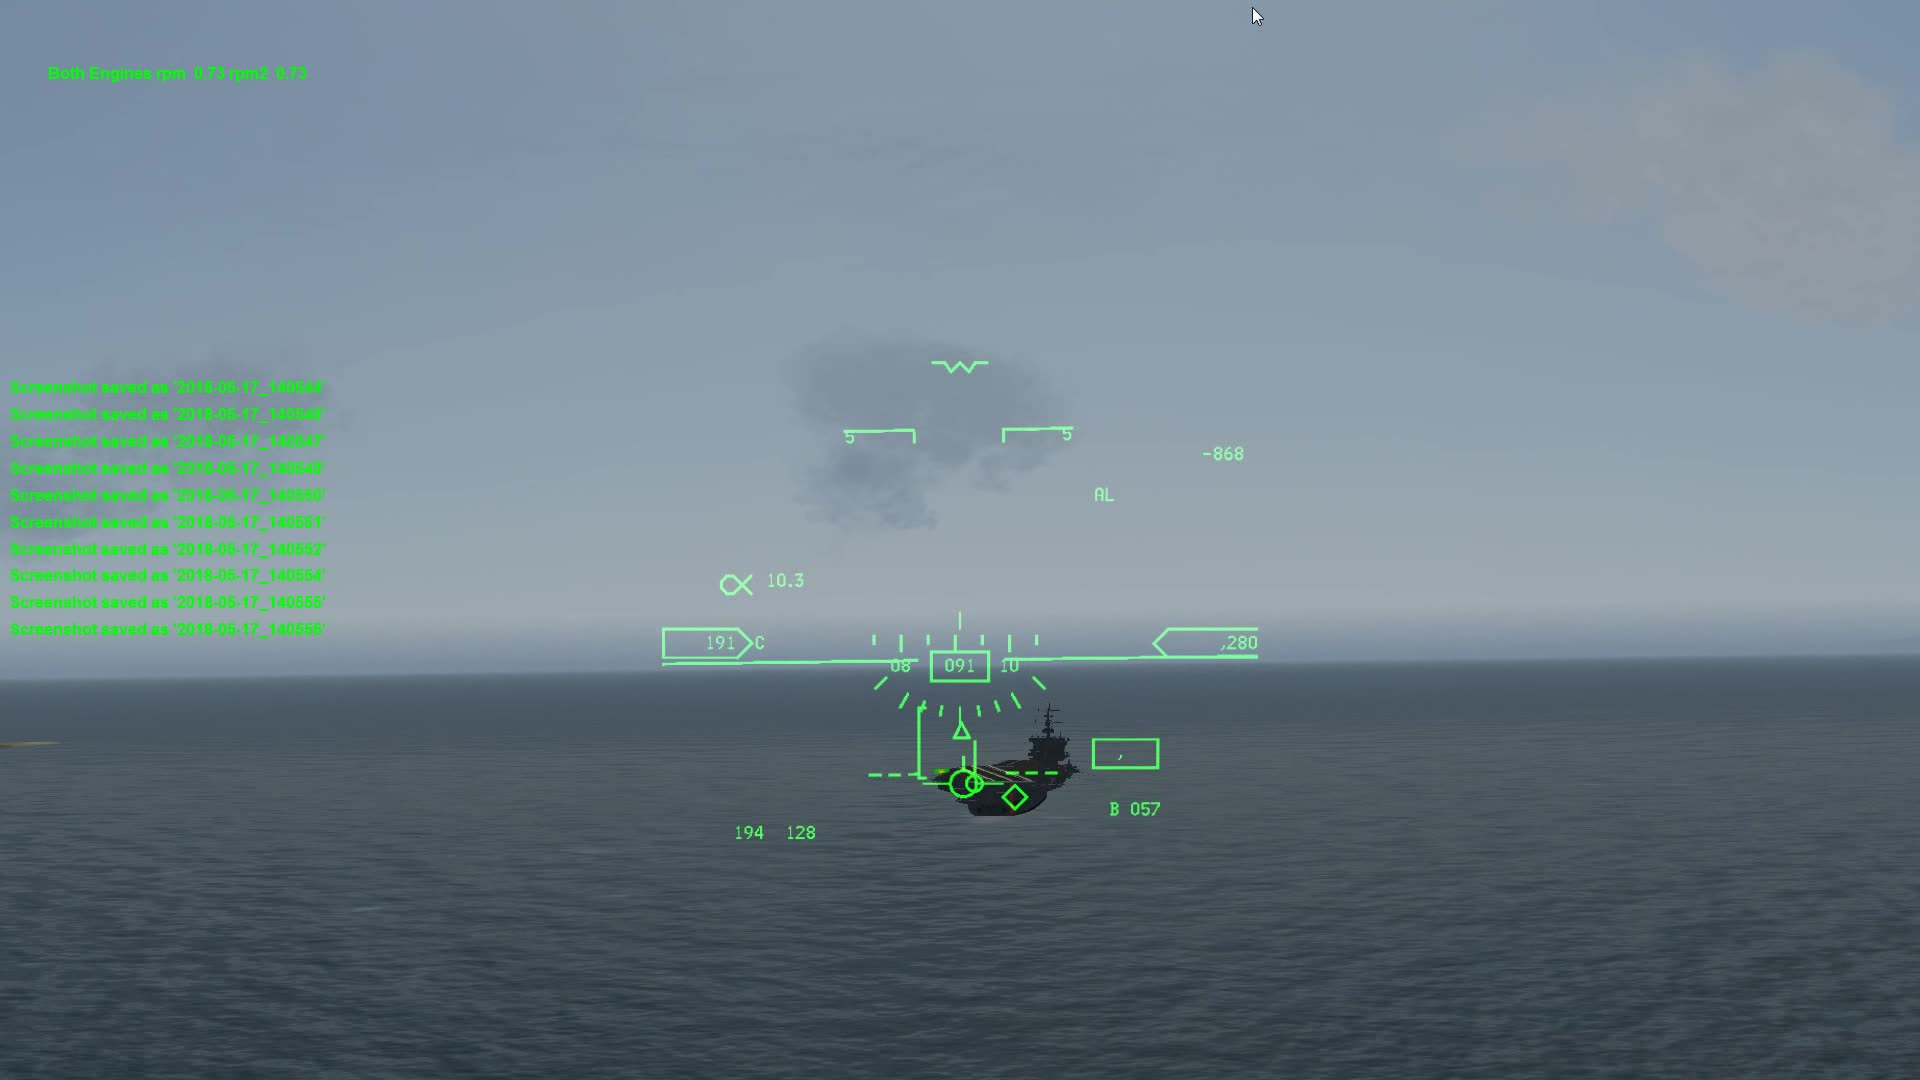speed vector: (927, 752, 1007, 800)
